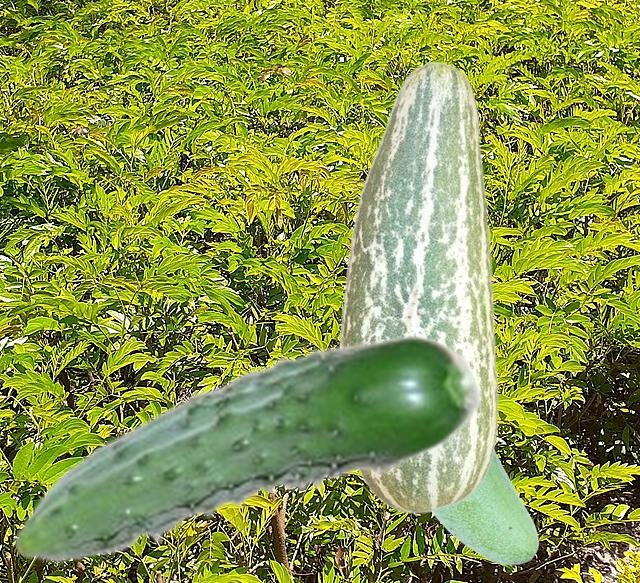cucumber: (12, 334, 483, 562), (338, 61, 498, 513), (431, 448, 538, 564)
